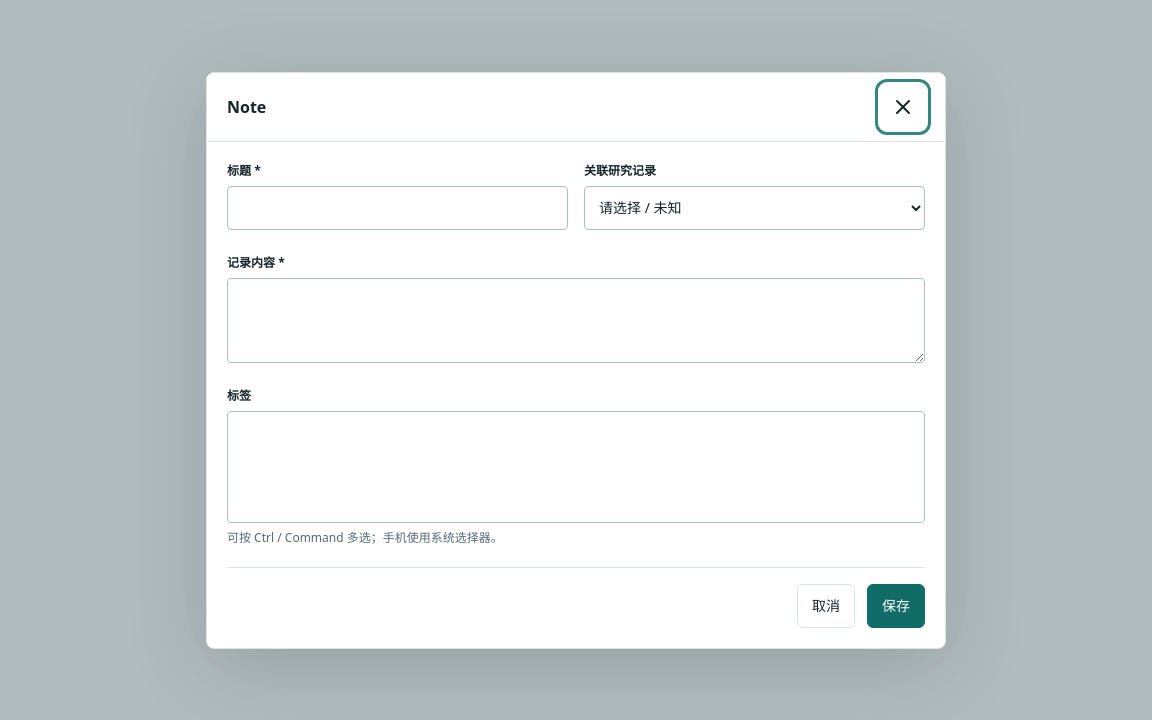
Test case: 科研编辑器 › 保存失败保留输入并展示服务端错误
The image size is (1152, 720).
Type "负结果记录" into the field labelled "标题 *" at coordinates (398, 208), box [227,186,568,230]
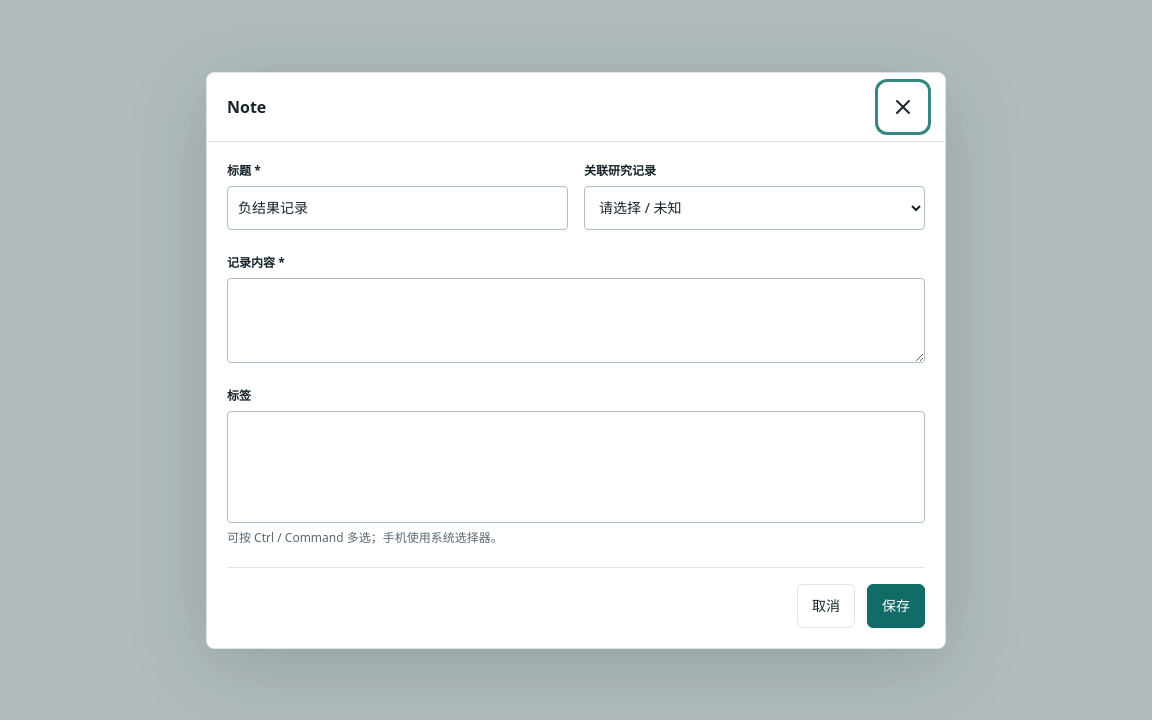
Type "未检出差异" into the text box labelled "记录内容 *" at coordinates (576, 320), box [227,278,925,362]
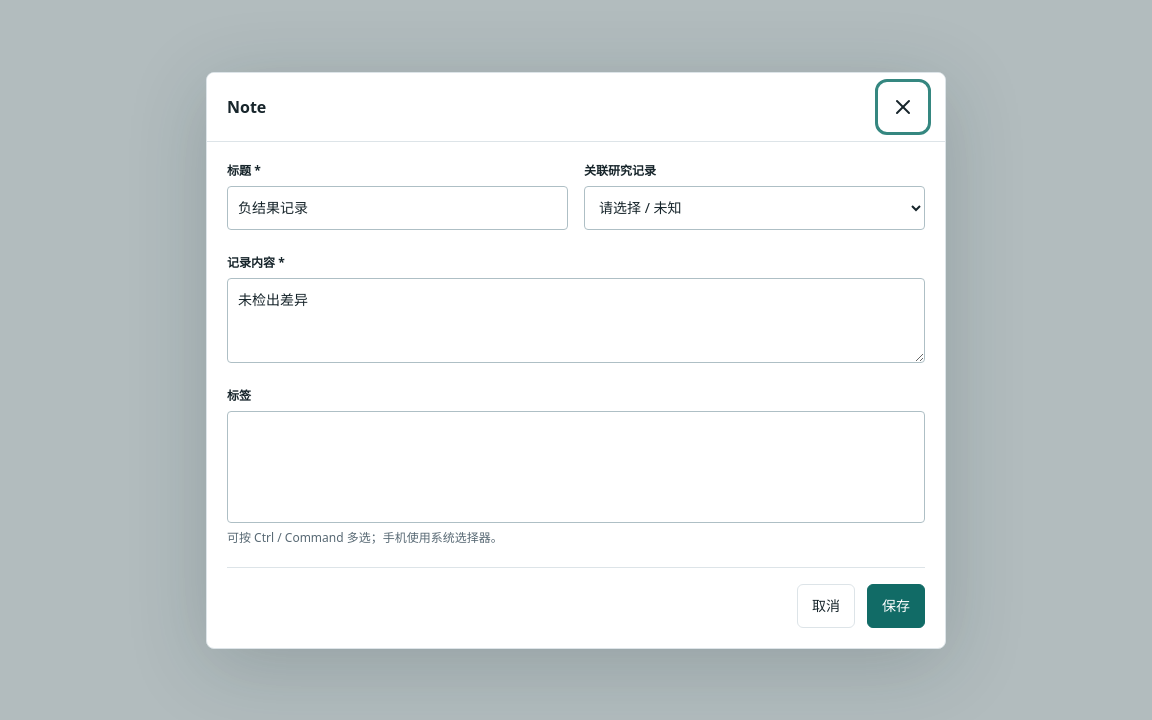
Click the button "保存" at coordinates (896, 606), box [867,584,925,628]
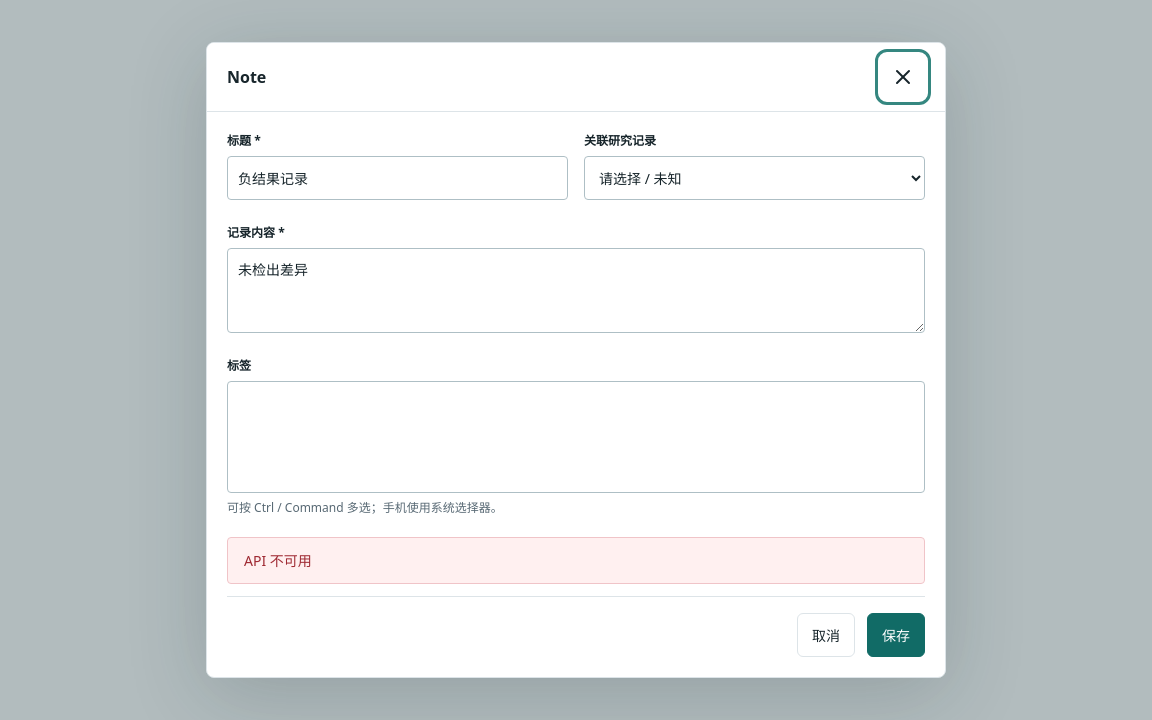
Result: the message reads "API 不可用" at [244,551,312,570]
